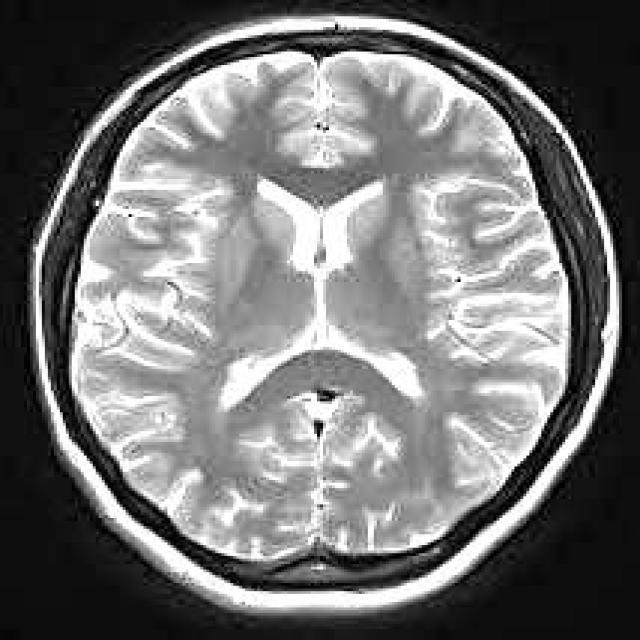notumor: (33, 19, 619, 610)
